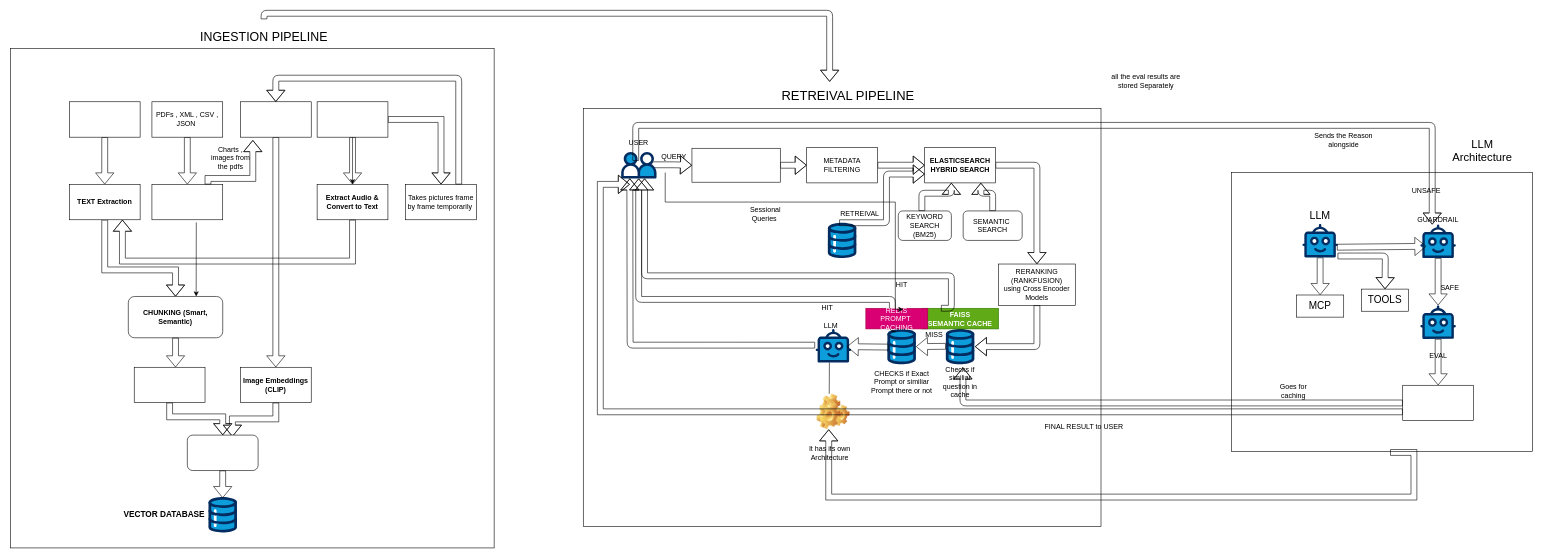
The diagram is 1543 pixels wide and 559 high, and some of its shapes have lost their labels. The shapes that lost their labels are listed below. From the top down, each one's centre as x and y in pixels, then its label:
the point at 104,119: Text Documents
the point at 275,119: PICTURES
the point at 352,119: VIDEO
the point at 735,165: QUERY Enhancement
the point at 187,202: for PDFs Separating images , charts, tables & for others, Just text extraction
the point at 169,385: Text Embeddings
the point at 1438,403: RESULT
the point at 222,453: METADATA ENRICHMENT
